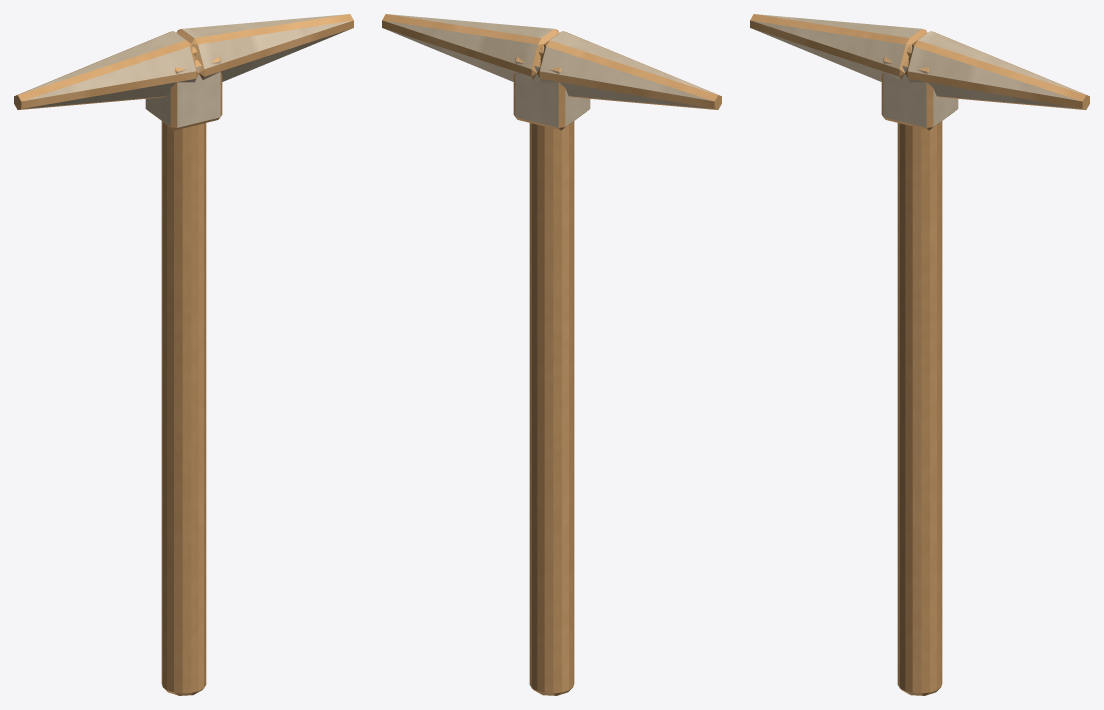
The model's file is sm_tool_pickaxe_basic.glb.
3 renders of one model, left to right at view 1: azimuth 30°, elevation 25°; view 2: azimuth 150°, elevation 25°; view 3: azimuth 330°, elevation 25°, orthographic.
Visible parts, largest first — view 1: sm_tool_pickaxe_basic; view 2: sm_tool_pickaxe_basic; view 3: sm_tool_pickaxe_basic.
Boxes of the visible parts, x1,y1,x2,y2 form: sm_tool_pickaxe_basic: (14, 14, 353, 695); sm_tool_pickaxe_basic: (382, 14, 721, 695); sm_tool_pickaxe_basic: (750, 14, 1089, 695).
Bounding box in the file's own units: 0.3224 × 0.6055 × 0.0549.
Materials: 1 (1 with a texture image).
